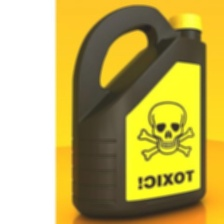insecticide: (69, 2, 210, 222)
